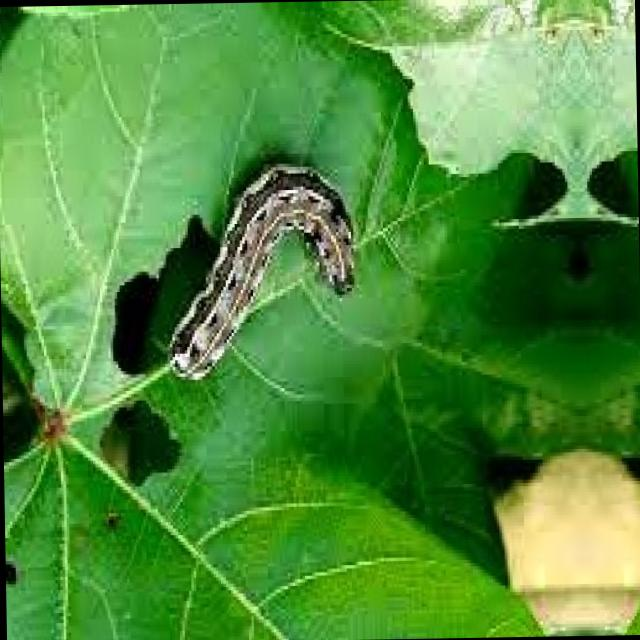Armyworm: (167, 148, 395, 382)
Armyworm_damage: (86, 385, 192, 510)
